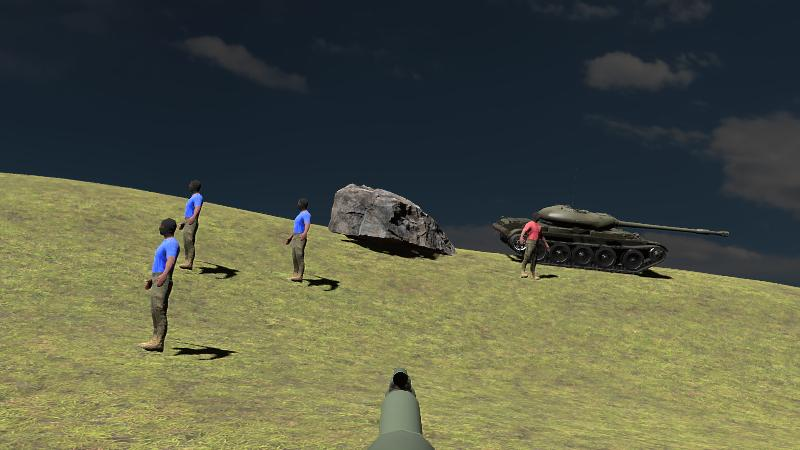Human: (140, 217, 180, 352), (176, 179, 203, 271), (286, 198, 311, 284), (518, 210, 549, 279)
Tank: (493, 207, 729, 275)
